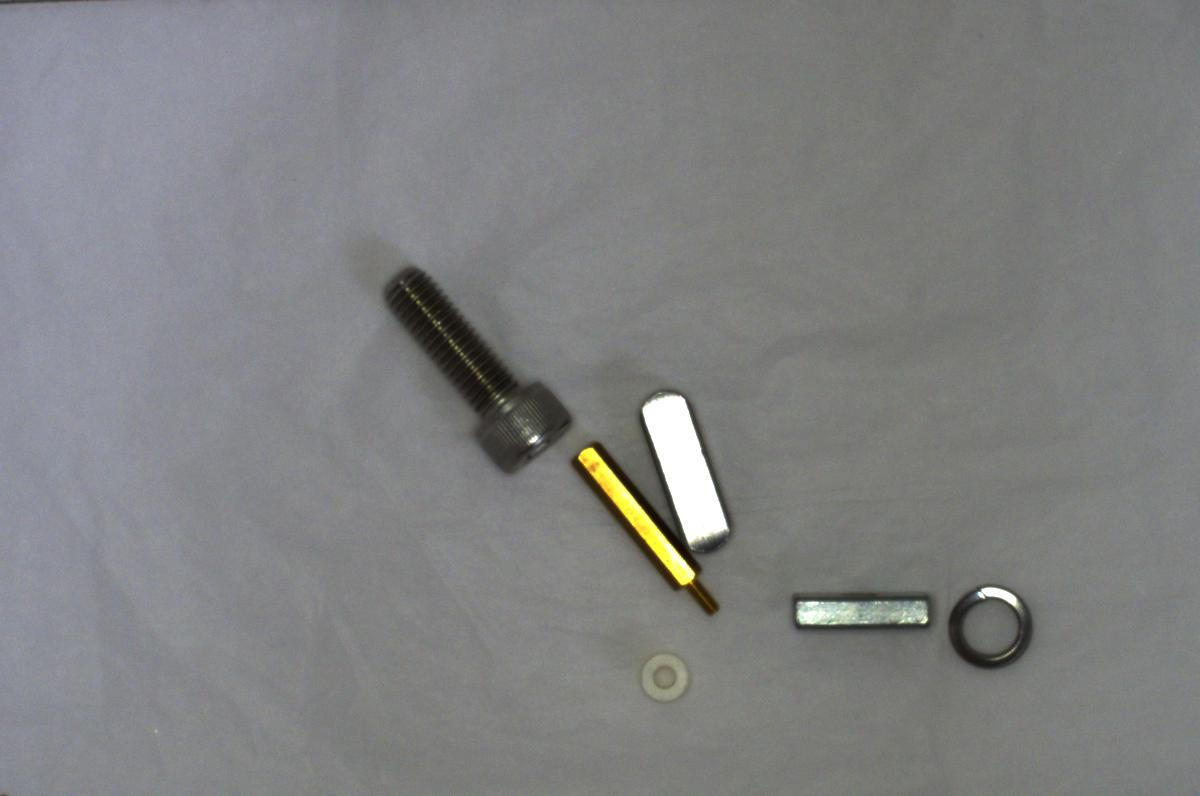Hexagon pillar: (574, 446, 721, 623)
Hexagon screw: (367, 263, 568, 470)
Keybar: (626, 381, 742, 553)
Plastic cushion pillar: (633, 640, 695, 716)
Rectangular nut: (786, 587, 938, 638)
Spring washer: (940, 576, 1037, 674)
